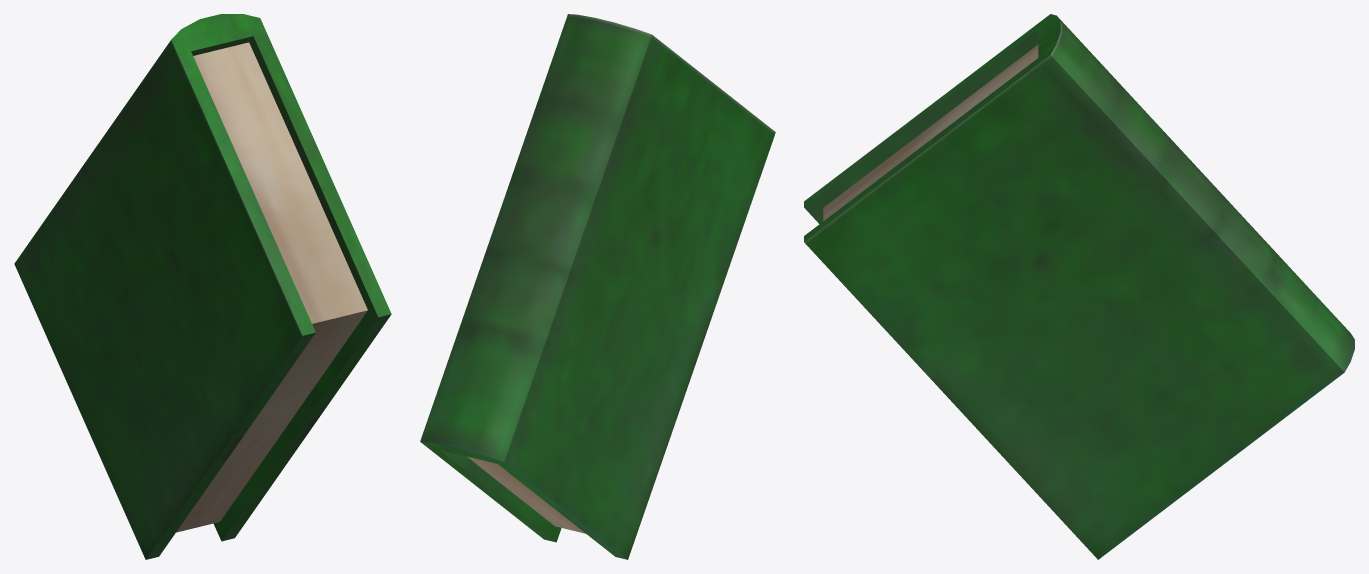
Rendered from book-05.fbx.
3 views of the same model, side by side, from view 1: azimuth 30°, elevation 25°; view 2: azimuth 150°, elevation 25°; view 3: azimuth 270°, elevation 25° (orthographic). The views are drawn at different scales.
Parts seen in each view (by area): view 1: Cube.257; view 2: Cube.257; view 3: Cube.257.
Part boxes in pixels (x1=…): Cube.257: x1=14, y1=14, x2=391, y2=559; Cube.257: x1=420, y1=14, x2=775, y2=559; Cube.257: x1=804, y1=14, x2=1354, y2=559.
Size of the model in its own units: 0.072 by 0.4222 by 0.4109.
